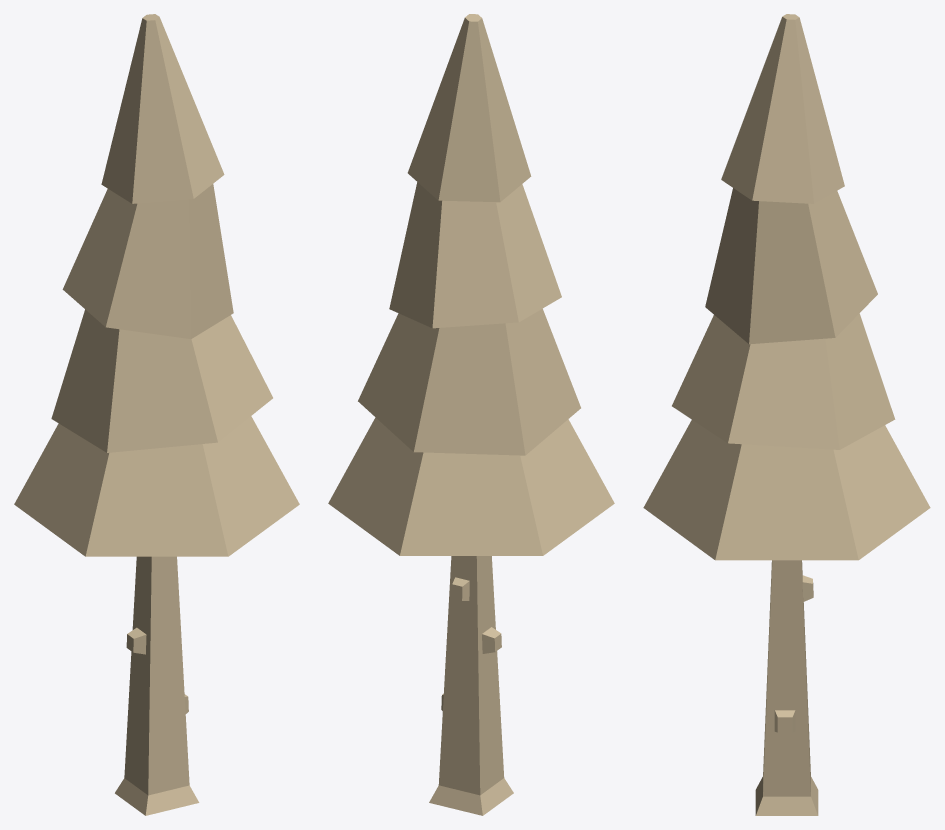
File: naturePack_052.fbx
3 views of the same model, side by side, from view 1: azimuth 30°, elevation 25°; view 2: azimuth 150°, elevation 25°; view 3: azimuth 270°, elevation 25° (orthographic).
Parts seen in each view (by area): view 1: naturePack_052; view 2: naturePack_052; view 3: naturePack_052.
Part boxes in pixels (bbox=[...]): naturePack_052: bbox=[14, 14, 299, 815]; naturePack_052: bbox=[328, 14, 614, 815]; naturePack_052: bbox=[643, 14, 930, 815].
Bounding box in the file's own units: 192 × 669 × 222.
